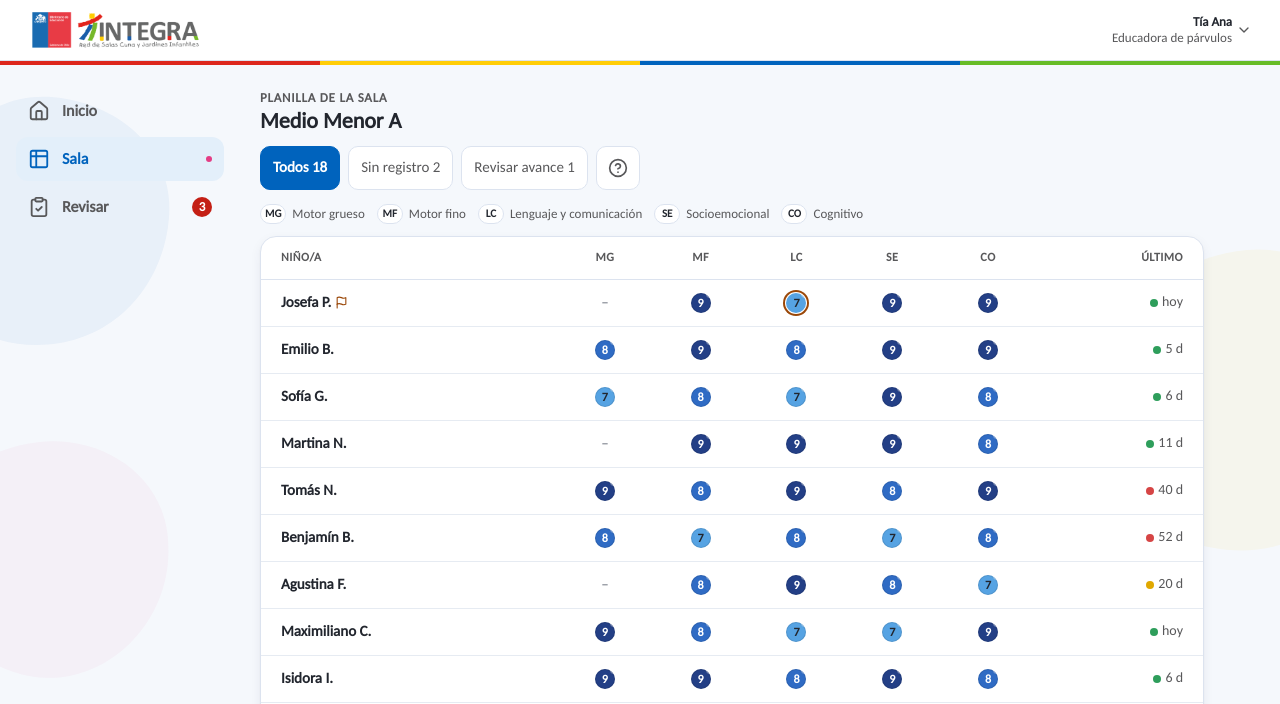
Test case: Sala › abre la leyenda de los colores con los 9 niveles
What coordinates should you click on to do the following:
click the button named "Qué significan los colores"
I would click on:
 (618, 168)
Its box is [596,146,640,190].
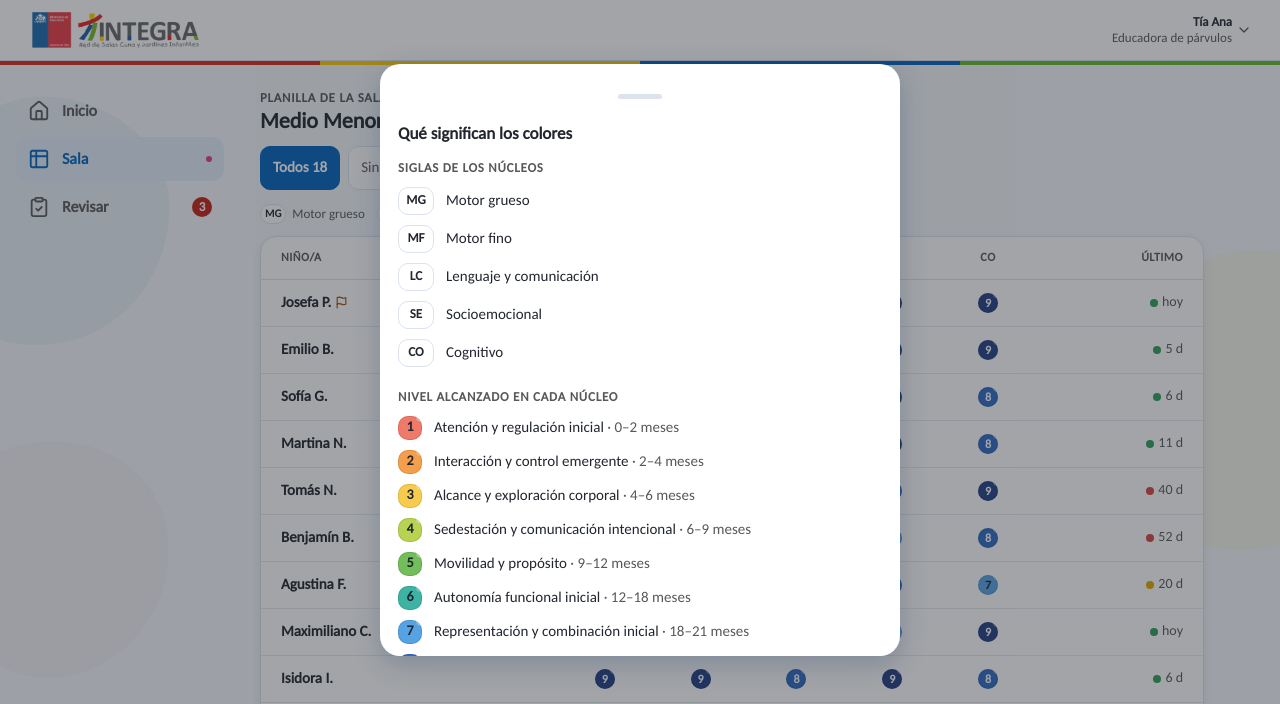
expect the text "Atención y regulación inicial" is shown: met, box [434,418,604,436]
